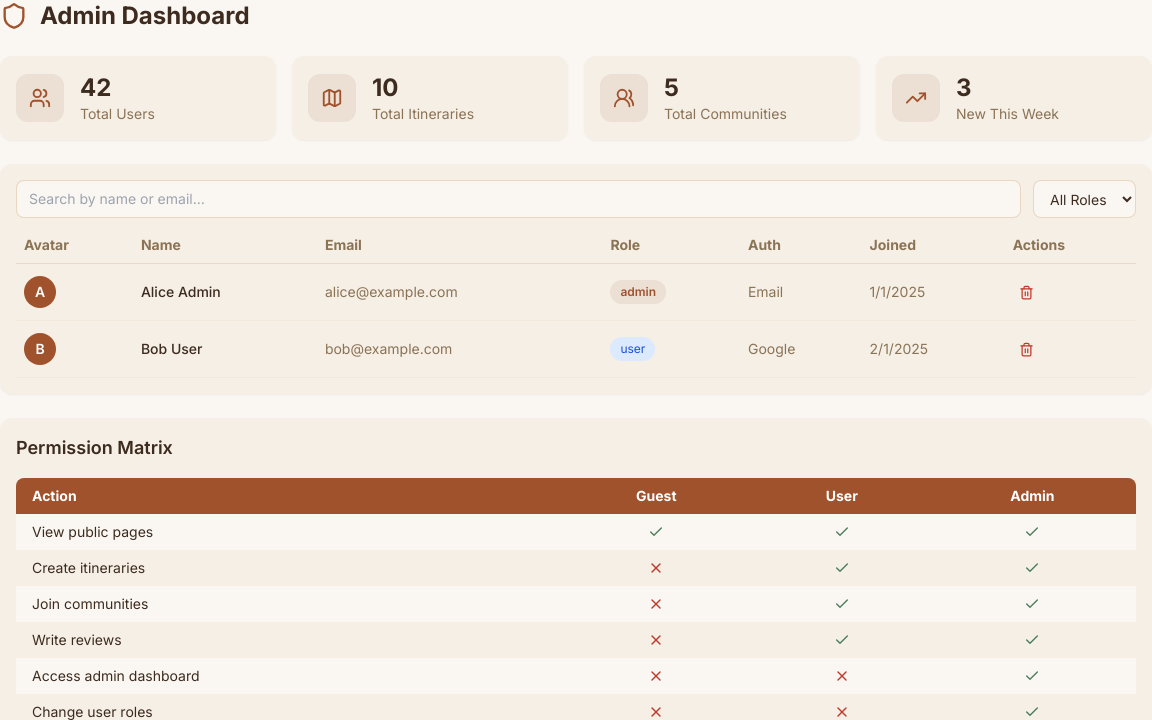
Scenario: Admin page › delete button shows confirmation modal
Click the button named "delete user" in the row of "Alice Admin" at (1026, 292), box [1013,278,1040,306]
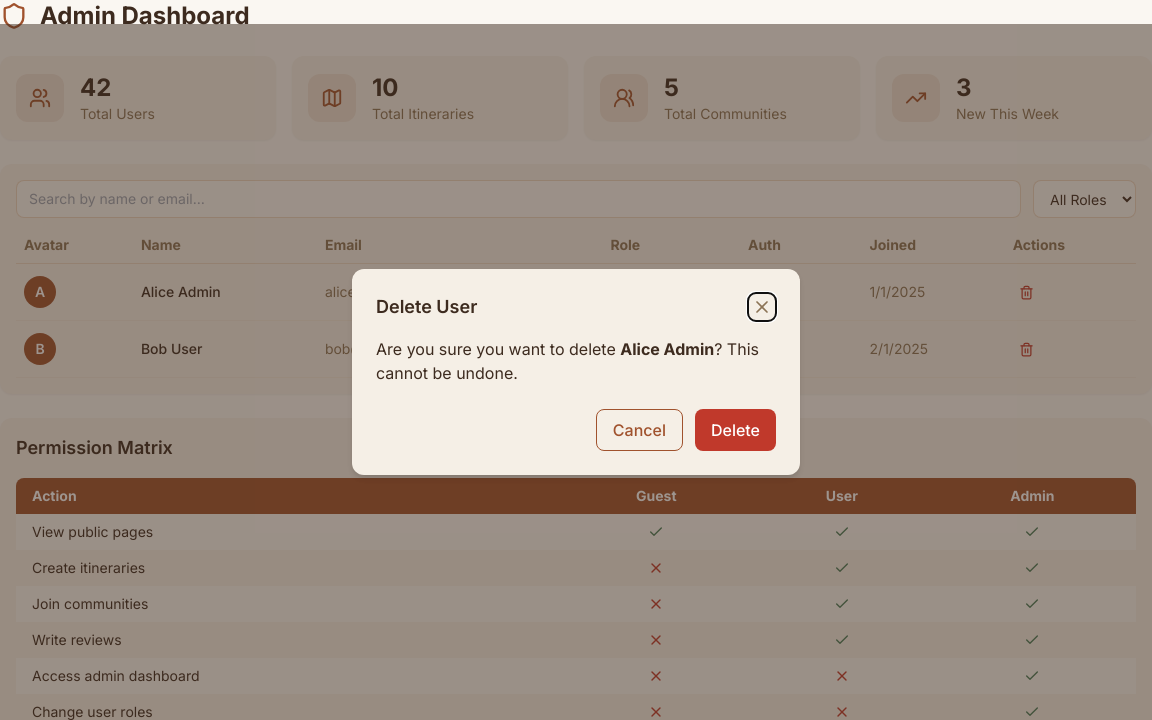
expect the text "cannot be undone" is shown: met, box [376,339,759,383]
